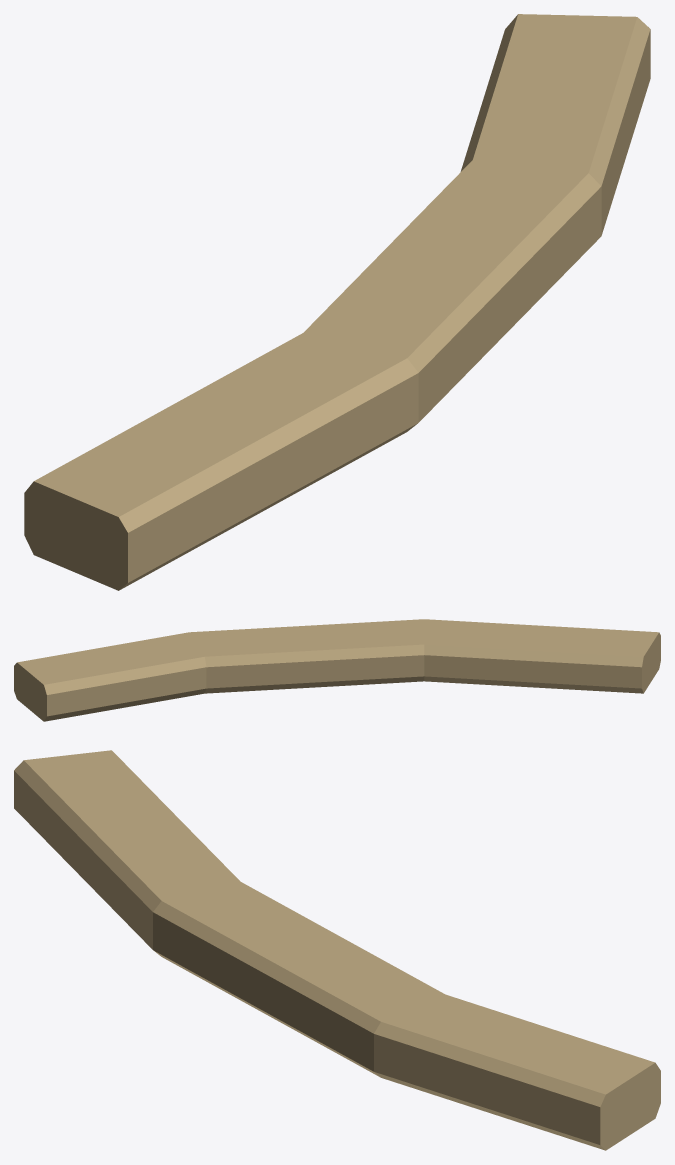
Rendered from Railing_curve_B.fbx.
3 views of the same model, one above another, from view 1: azimuth 30°, elevation 25°; view 2: azimuth 150°, elevation 25°; view 3: azimuth 270°, elevation 25° (orthographic). The views are drawn at different scales.
Visible parts, largest first — view 1: railing_curve_B; view 2: railing_curve_B; view 3: railing_curve_B.
Part boxes in pixels (<box>): railing_curve_B: <box>24,14,650,590</box>; railing_curve_B: <box>14,619,660,721</box>; railing_curve_B: <box>14,750,660,1150</box>.
Size of the model in its own units: 424 by 31.76 by 332.
